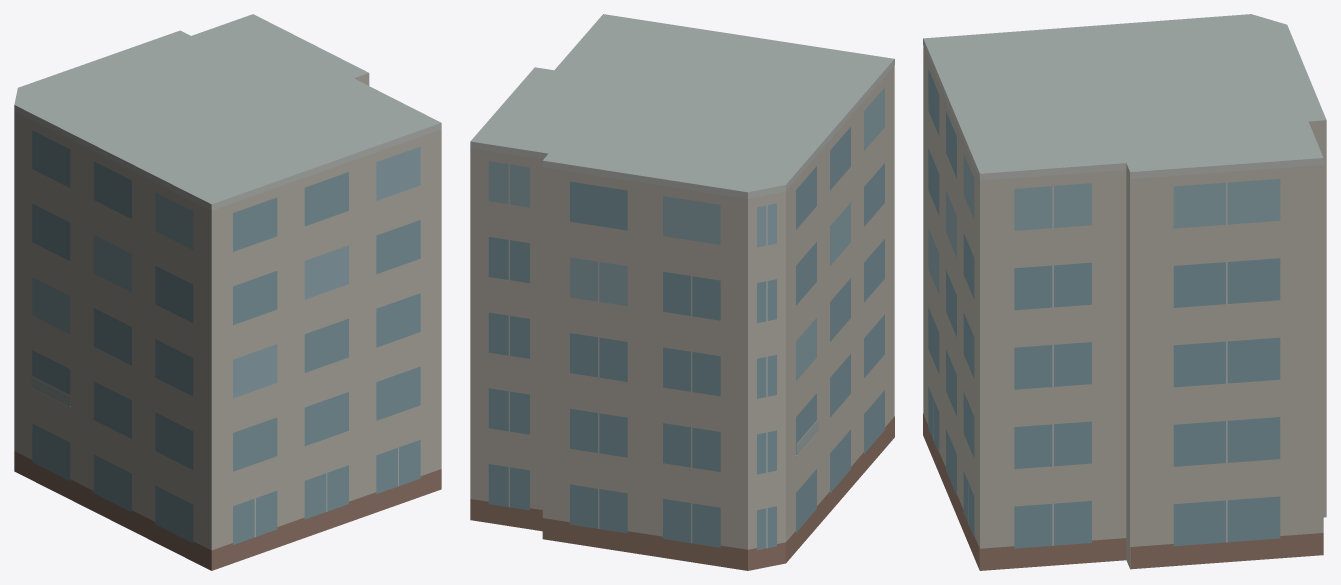
The model's file is survey-upis-32529111.glb.
3 views of the same model, side by side, from view 1: azimuth 30°, elevation 25°; view 2: azimuth 150°, elevation 25°; view 3: azimuth 270°, elevation 25° (orthographic). The views are drawn at different scales.
Parts seen in each view (by area): view 1: survey-upis-32529111.tmp; view 2: survey-upis-32529111.tmp; view 3: survey-upis-32529111.tmp.
Part boxes in pixels (<box>): survey-upis-32529111.tmp: <box>14,14,441,570</box>; survey-upis-32529111.tmp: <box>470,14,894,570</box>; survey-upis-32529111.tmp: <box>923,14,1326,570</box>.
Size of the model in its own units: 12.17 by 14.1 by 12.99.
